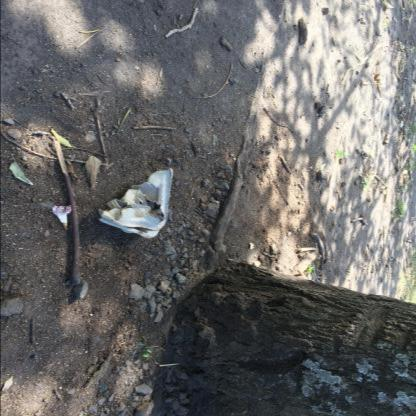Carton: (99, 168, 173, 239)
Other plastic: (99, 385, 108, 392)
